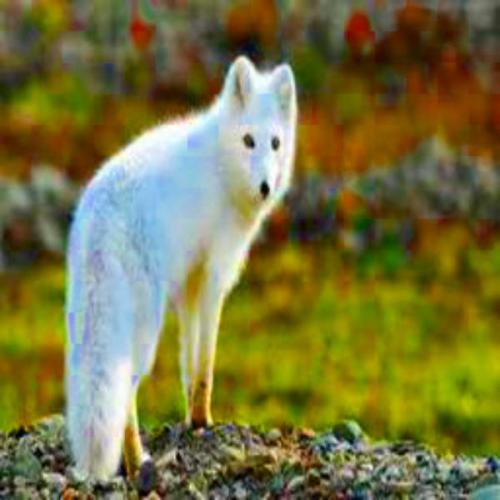arctic_fox-endangered: (64, 56, 297, 479)
